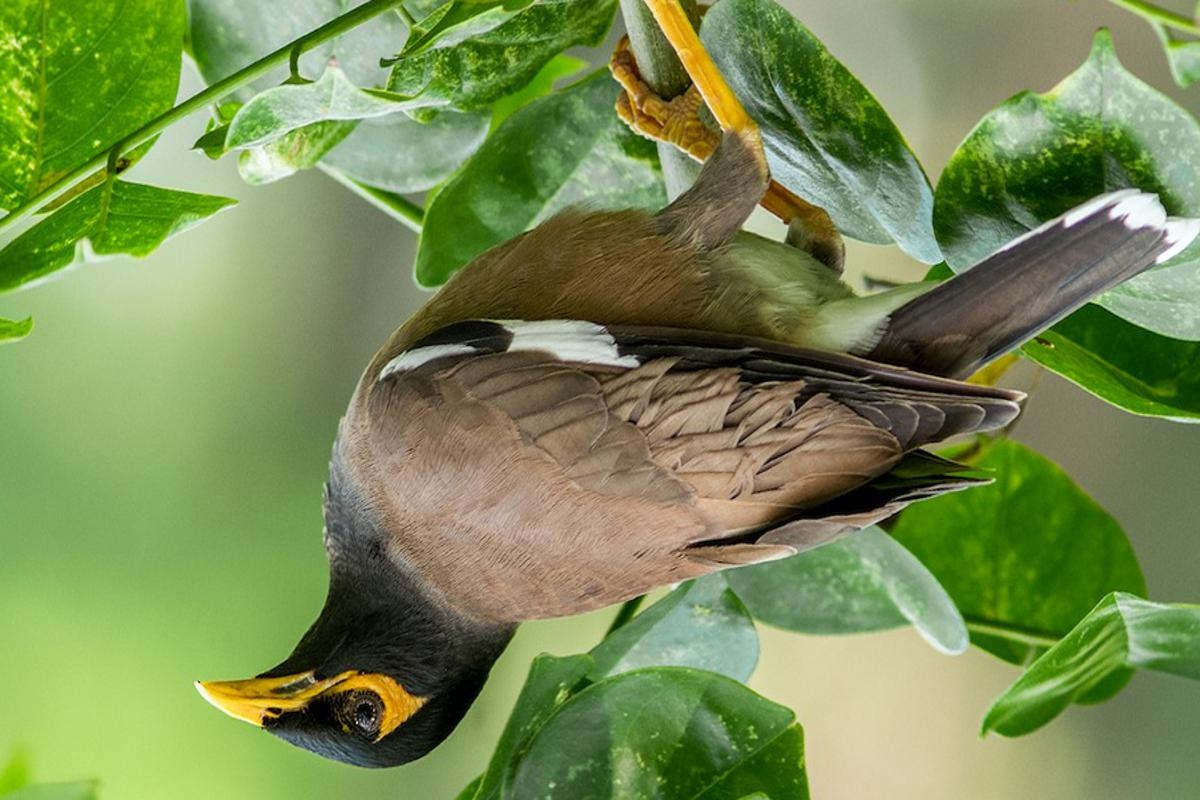myna: (190, 102, 1154, 775)
